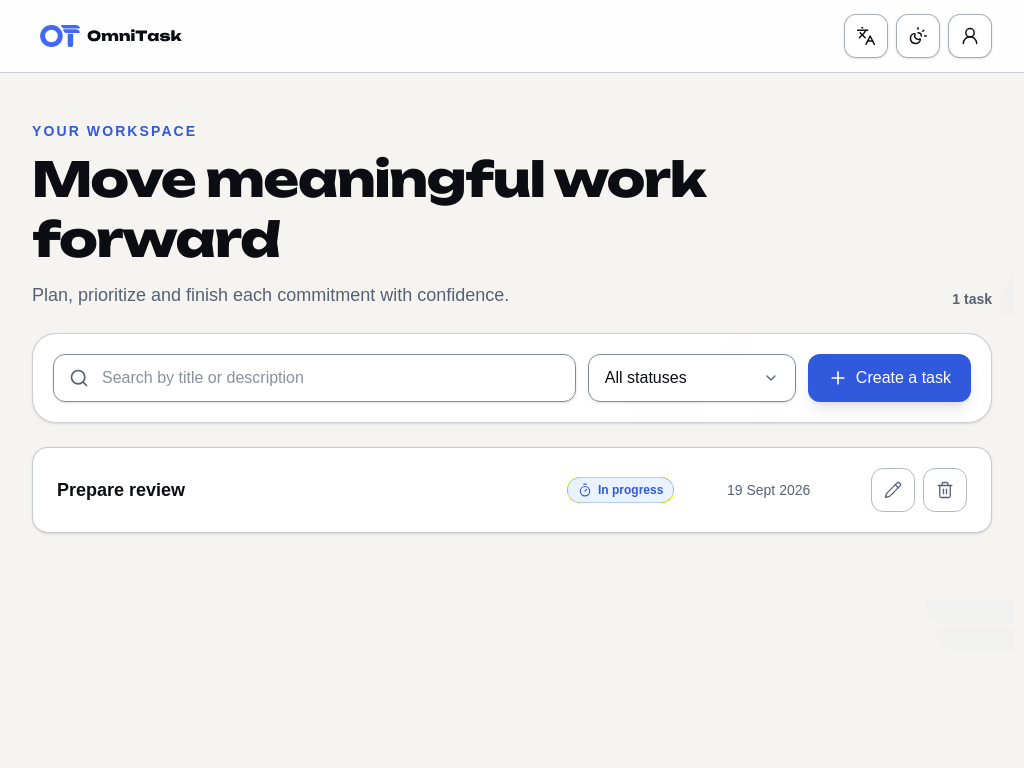
Test: task workspace › keeps a stale edit open and offers reload or cancel
This screenshot has width=1024, height=768.
Click the button named "Edit task Prepare review". click: (893,490)
box: [871,468,915,512]
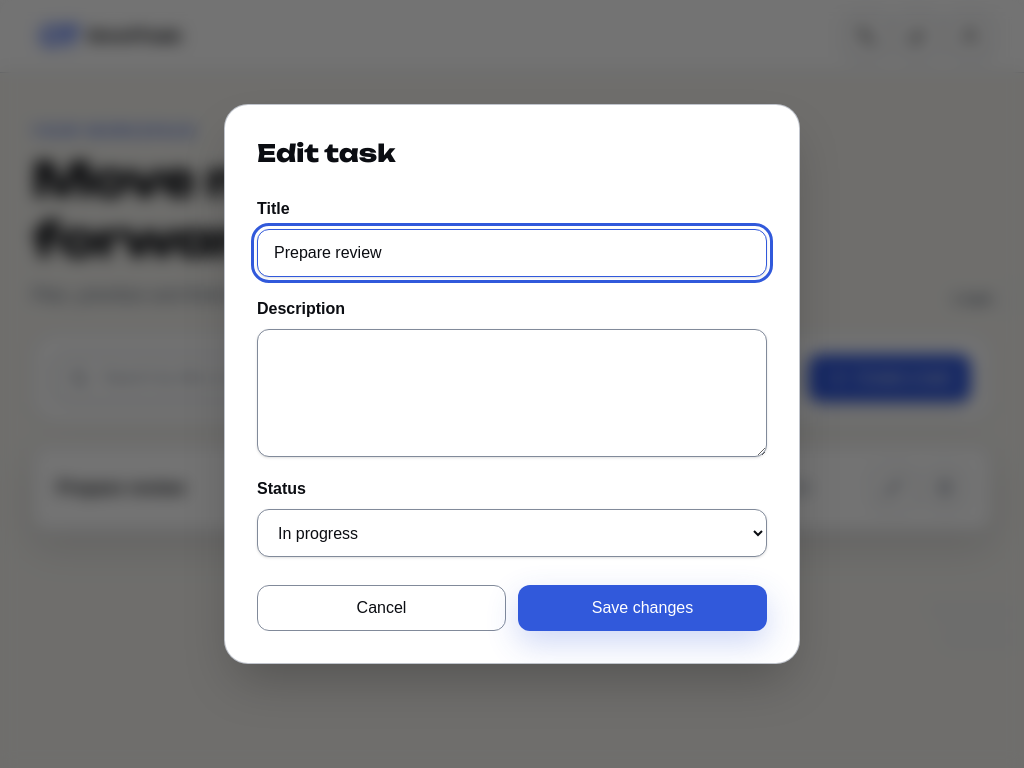
Click the button "Save changes". click: (642,608)
box: [518,585,767,631]
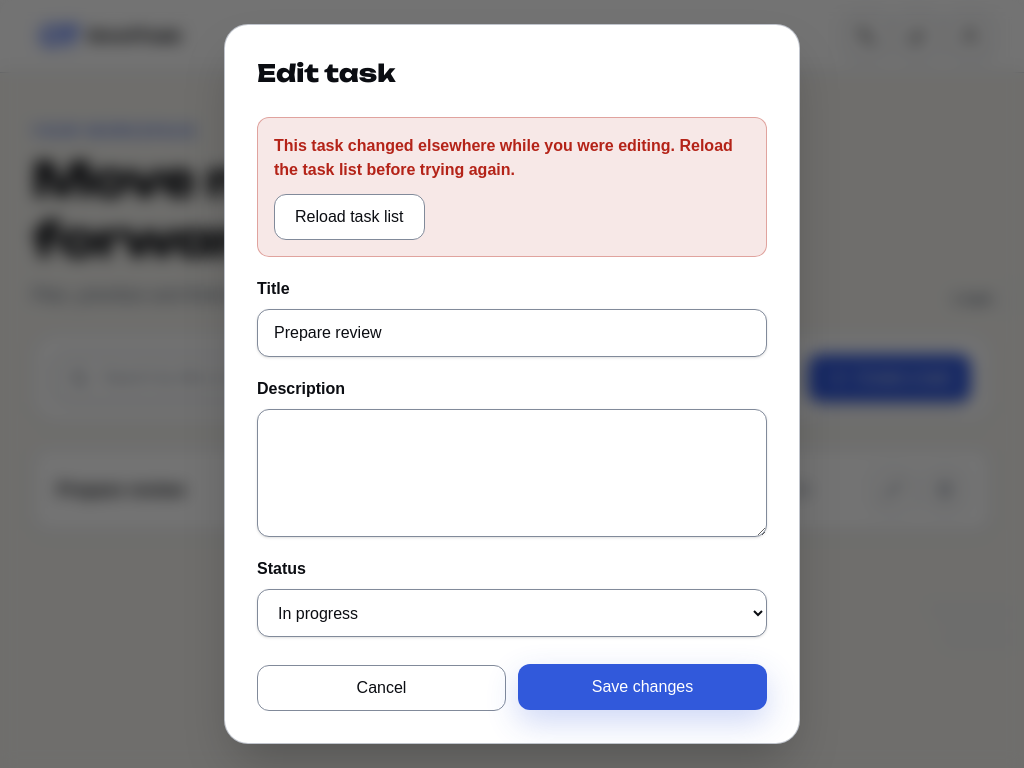
Check: the message shows "This task changed elsewhere", box [274,137,733,178]
Check: the button "Reload task list" is shown, box [274,194,424,240]
